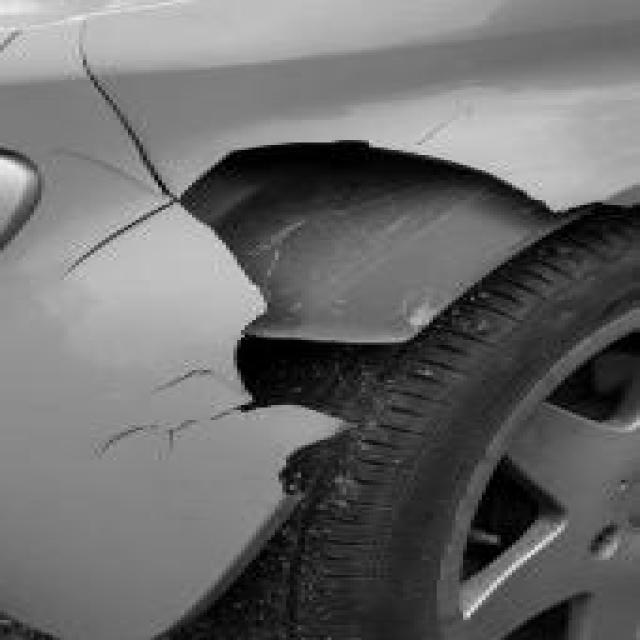Bumper: (30, 30, 584, 602)
